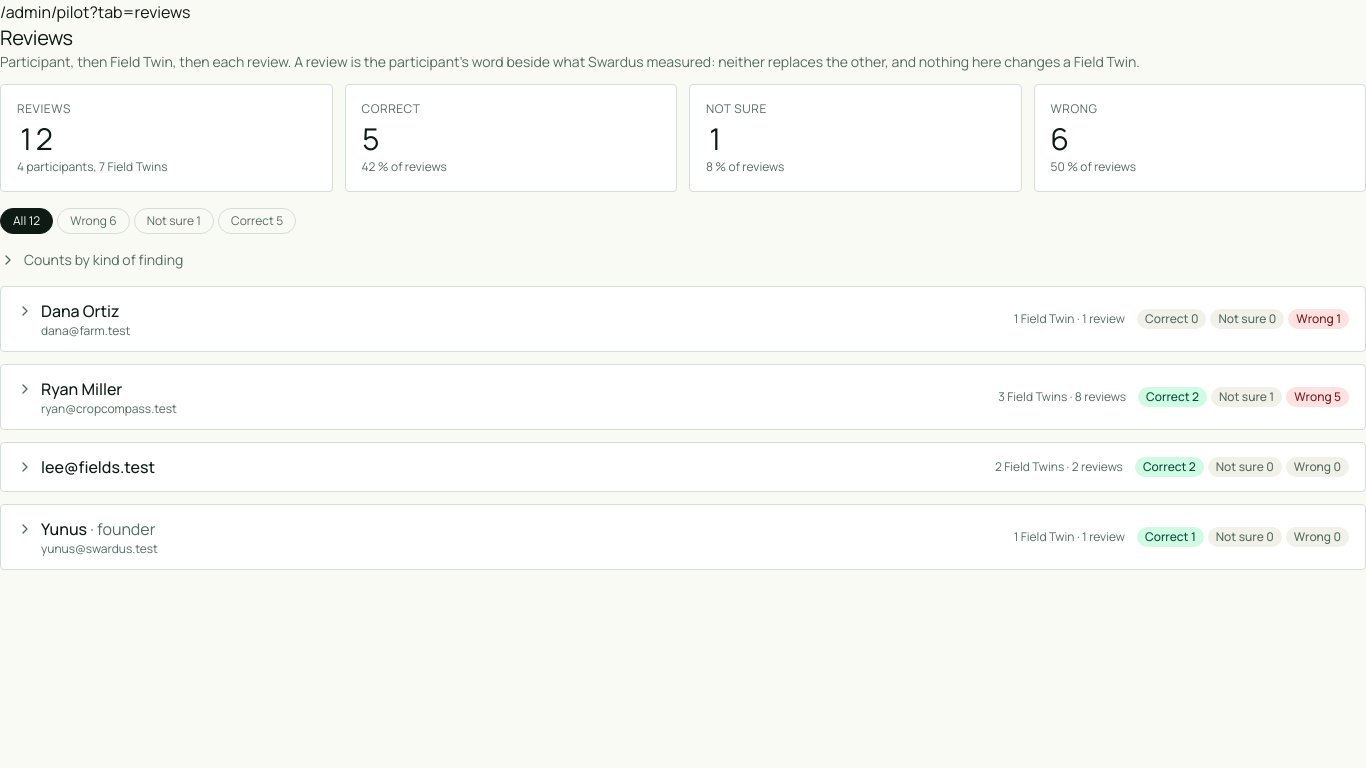
it: the Reviews tab › the verdict filter keeps only those reviews, at every level
The image size is (1366, 768).
Click the button "Wrong 6" at (94, 221), box top-left (57, 208), bottom-right (130, 234)
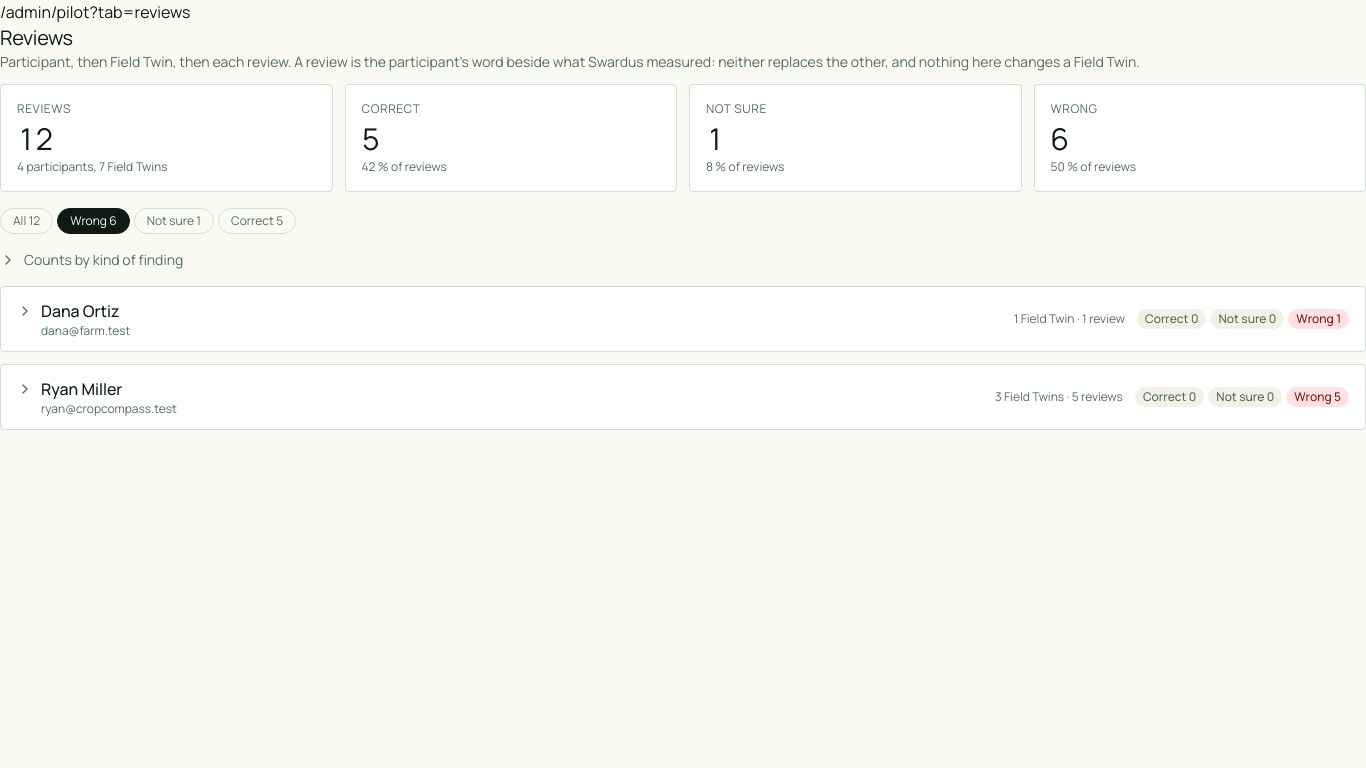
expect the button "lee@fields.test" is gone: met
expect the button "Ryan Miller" shows "3 Field Twins · 5 reviews": met
Click the button "Ryan Miller" at (82, 389), box top-left (1, 365), bottom-right (1365, 429)
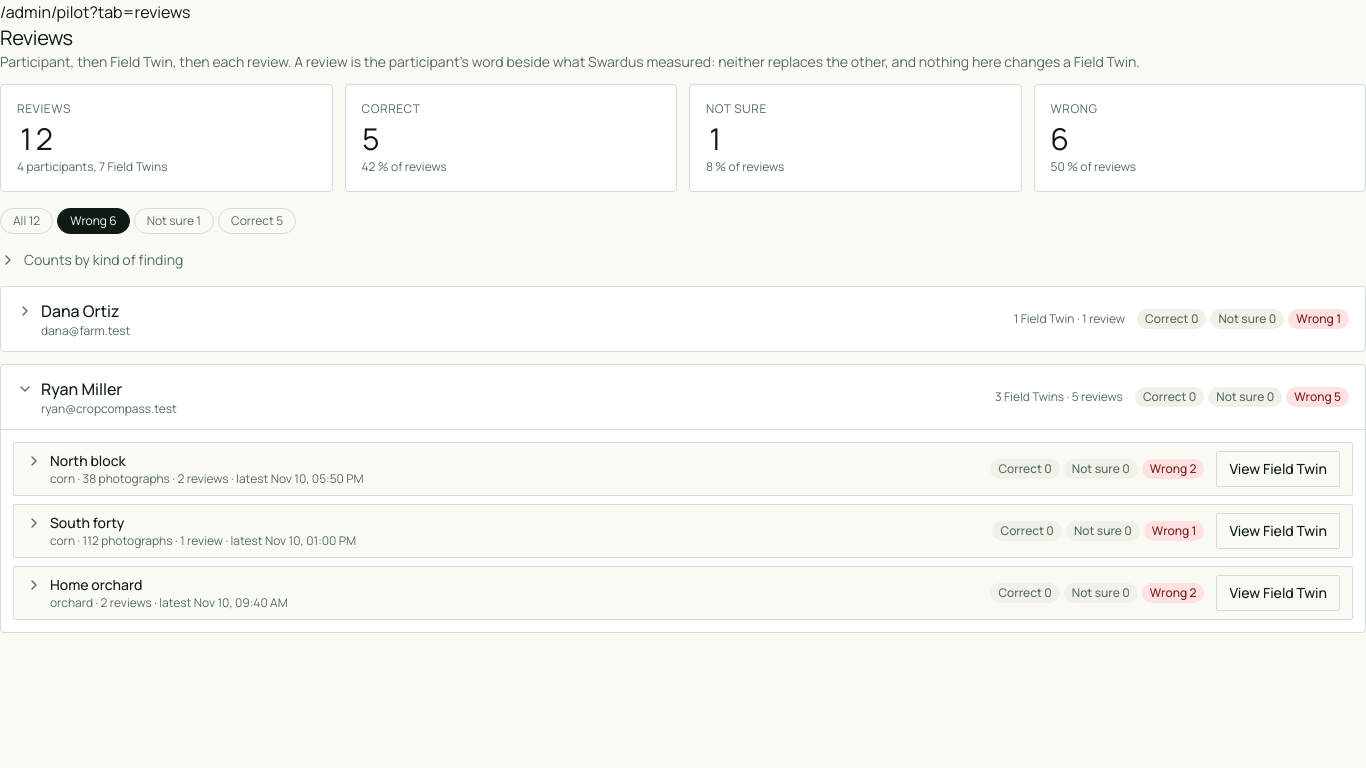
Click the button "North block" at (88, 460), box top-left (26, 451), bottom-right (974, 487)
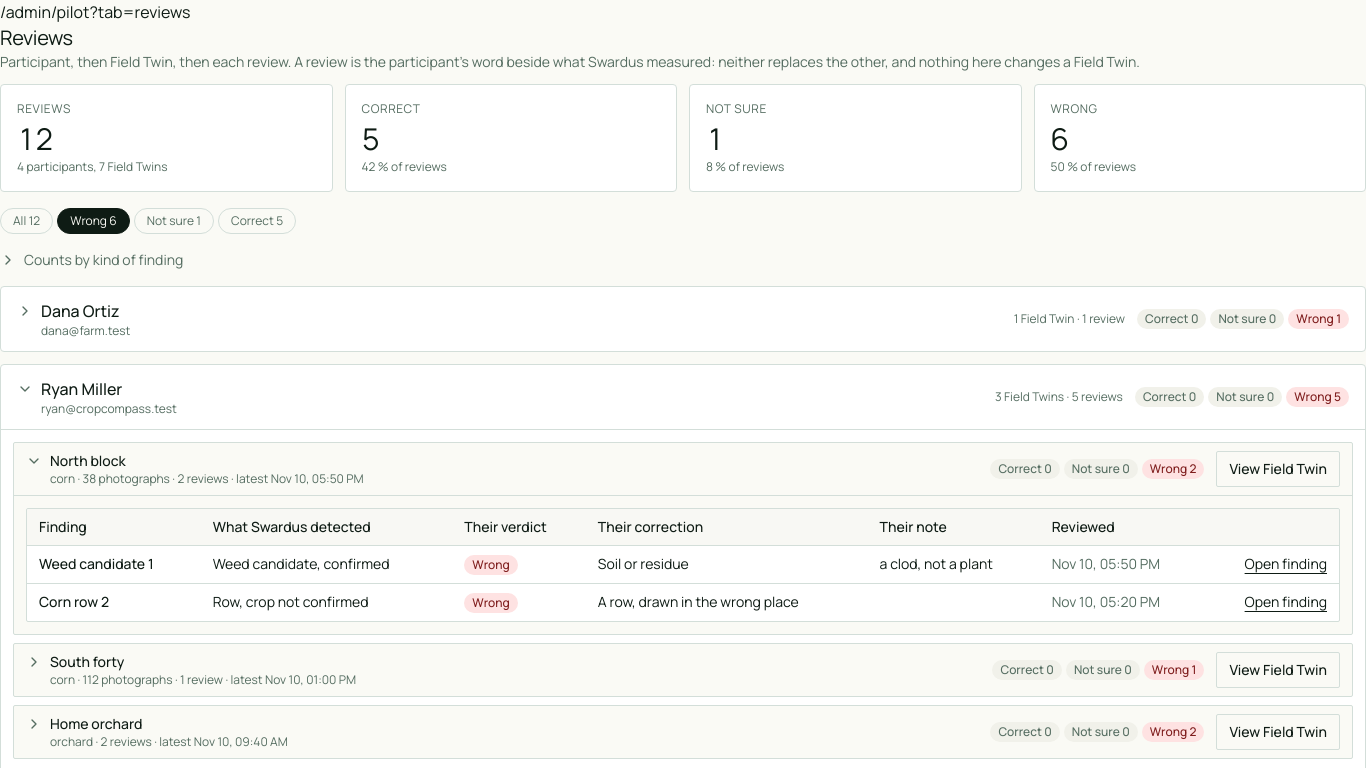
Click the button "Not sure 1" at (174, 221), box top-left (134, 208), bottom-right (214, 234)
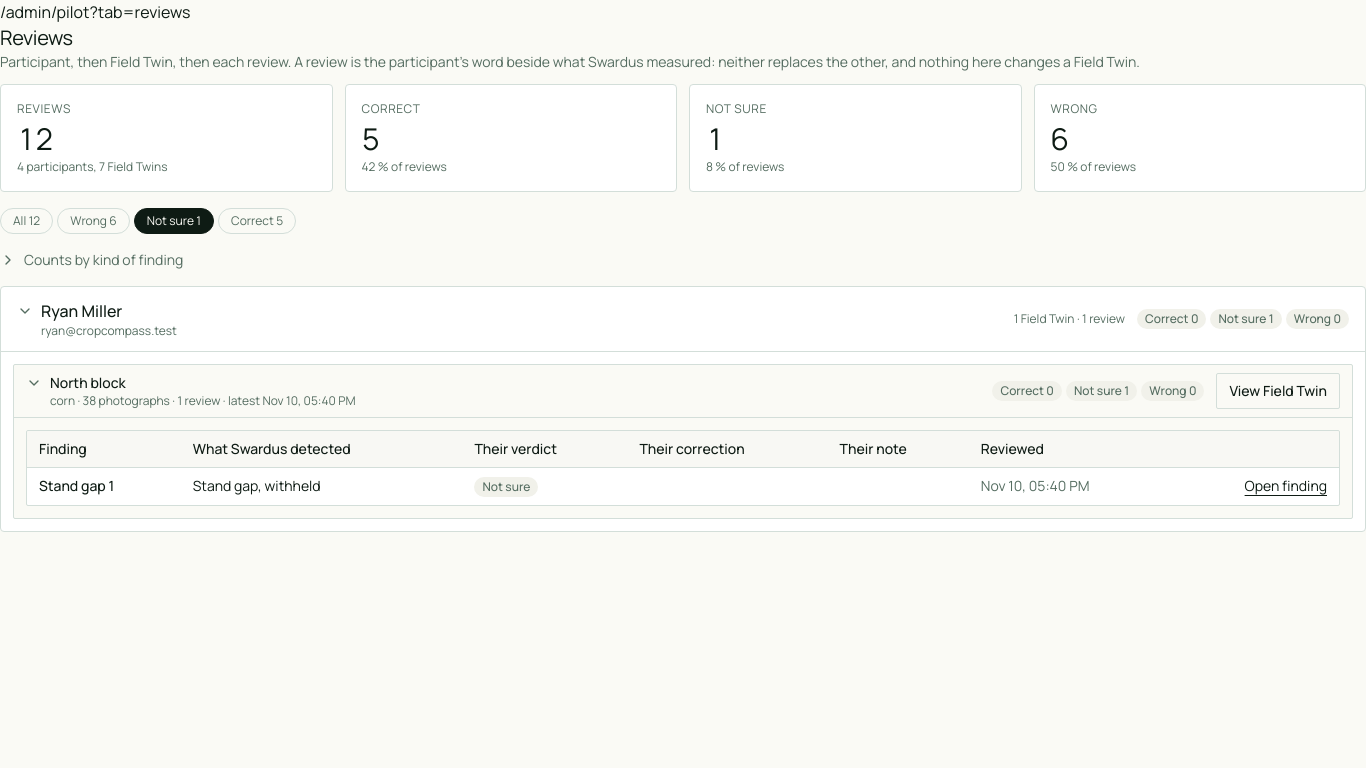
expect the number of buttons "Field Twin · 1 review" is 1: met, box top-left (1, 287), bottom-right (1365, 351)
